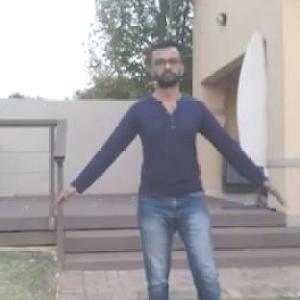land: (68, 58, 259, 299)
